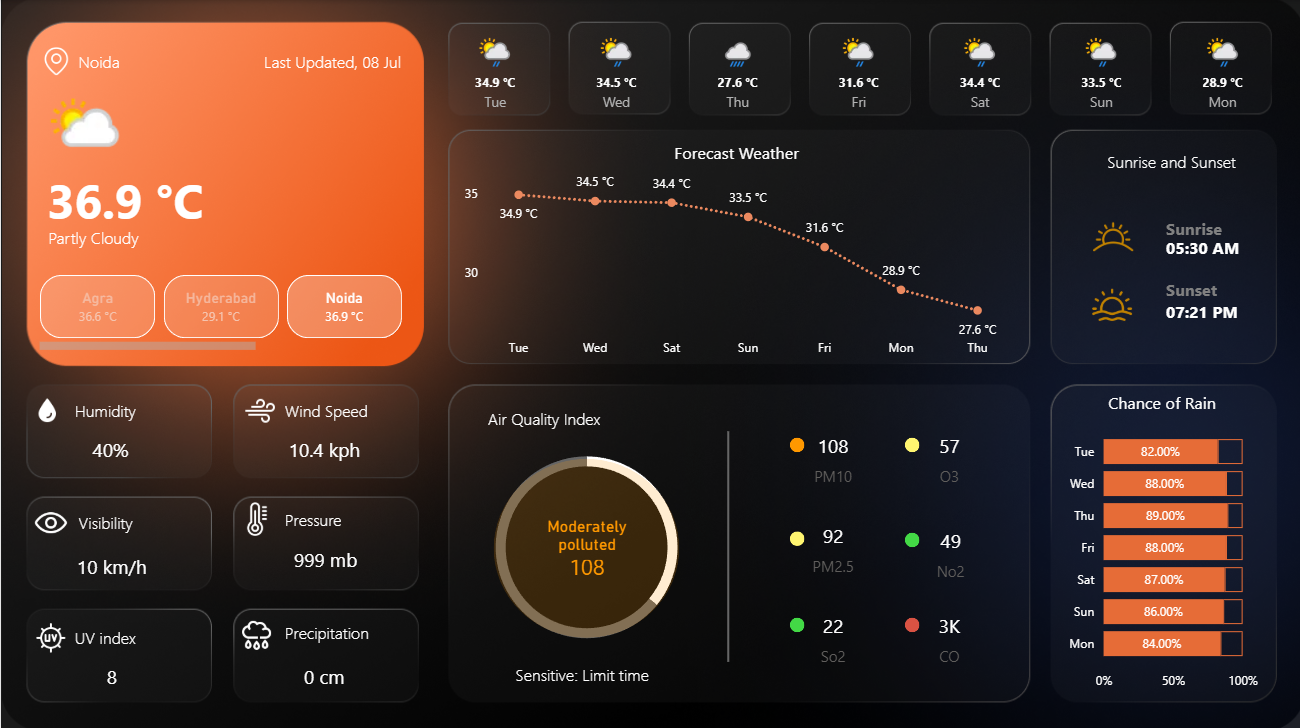

This screenshot's page, from the dashboard's own definition file:
{"tool":"powerbi","page":{"name":"Page 1","canvas":[1280,720],"ordinal":0},"visuals":[{"type":"donutChart","fields":{"Y":["Sum(Current.current.air_quality.pm10)","_Measures.Left_value_PM10"]},"box":[433,421,283.8,233.1],"z":0},{"type":"shape","box":[483.6,450.3,182.5,175.9],"z":1000},{"type":"advancedSlicerVisual","fields":{"Values":["Location.location.name"]},"box":[33.1,265,366.9,85.9],"z":2000},{"type":"shape","box":[45.3,158.5,173.2,74.6],"z":3000},{"type":"shape","box":[46.6,208.6,173,49.1],"z":4000},{"type":"shape","box":[76.1,29.4,166.9,61.4],"z":5000},{"type":"shape","box":[203.7,35.6,189,49.1],"z":6000},{"type":"image","box":[31.9,41.7,44.2,36.8],"z":7000},{"type":"cardVisual","fields":{"Data":["Min(Current.current.condition.icon)"]},"box":[22.6,69.3,110.6,110.6],"z":8000},{"type":"image","box":[230.5,382.3,48,41.3],"z":9000},{"type":"shape","box":[278.4,378.4,146.5,49.3],"z":10000},{"type":"shape","box":[71.9,378.4,146.5,49.3],"z":11000},{"type":"shape","box":[278.4,484.9,146.5,49.3],"z":12000},{"type":"shape","box":[75.9,488.9,146.5,49.3],"z":13000},{"type":"shape","box":[278.4,596.8,146.5,49.3],"z":14000},{"type":"shape","box":[71.9,600.8,143.9,49.3],"z":15000},{"type":"image","box":[28,381,34.6,42.6],"z":16000},{"type":"image","box":[25.3,488.9,46.6,49.3],"z":17000},{"type":"image","box":[25.3,606.2,46.6,40],"z":18000},{"type":"image","box":[225.1,600.8,53.3,45.3],"z":19000},{"type":"image","box":[226.5,488.9,49.3,42.6],"z":20000},{"type":"card","fields":{"Values":["_Measures.Humidity"]},"box":[54.6,423.6,105.2,40],"z":21000},{"type":"card","fields":{"Values":["_Measures.Wind_Speed"]},"box":[265.1,423.6,105.2,40],"z":22000},{"type":"card","fields":{"Values":["_Measures.Visibility"]},"box":[56,538.2,105.2,40],"z":23000},{"type":"card","fields":{"Values":["_Measures.Pressure"]},"box":[266.4,531.6,105.2,40],"z":24000},{"type":"card","fields":{"Values":["Sum(Current.current.uv)"]},"box":[56,646.1,105.2,40],"z":25000},{"type":"card","fields":{"Values":["_Measures.Precipitation"]},"box":[265.1,646.1,105.2,40],"z":26000},{"type":"lineChart","title":"Forecast Weather","fields":{"Category":["Forcast_day.Day_Name"],"Y":["Sum(Forcast_day.forecast.forecastday.day.avgtemp_c)"]},"box":[450.3,138.6,543.5,221.1],"z":27000},{"type":"advancedSlicerVisual","fields":{"Values":["Forcast_day.Day_Name"]},"box":[425,25.3,836.6,89.3],"z":28000},{"type":"shape","box":[1040.5,133.2,217.2,49.3],"z":29000},{"type":"shape","box":[1143.1,198.5,114.6,50.6],"z":30000},{"type":"shape","box":[1143.1,274.4,95.9,61.3],"z":31000},{"type":"shape","box":[1143.1,223.8,95.9,37.3],"z":32000},{"type":"shape","box":[1143.1,259.8,74.6,48],"z":33000},{"type":"image","box":[1040.5,201.2,102.6,62.6],"z":34000},{"type":"image","box":[1065.8,274.4,49.3,49.3],"z":35000},{"type":"hundredPercentStackedBarChart","title":"Chance of Rain","fields":{"Category":["Forcast_day.Day_Name"],"Y":["Sum(Forcast_day.forecast.forecastday.day.daily_chance_of_rain)","_Measures.LeftRain_Value"]},"box":[1040.5,383.7,198.5,302.4],"z":36000},{"type":"card","fields":{"Values":["Sum(Current.current.air_quality.o3)"]},"box":[877.9,409,105.2,82.6],"z":37000},{"type":"card","fields":{"Values":["Sum(Current.current.air_quality.no2)"]},"box":[879.3,502.2,105.2,82.6],"z":38000},{"type":"card","fields":{"Values":["Sum(Current.current.air_quality.co)"]},"box":[877.9,584.8,105.2,82.6],"z":39000},{"type":"card","fields":{"Values":["Sum(Current.current.air_quality.pm10)"]},"box":[764.7,409,105.2,82.6],"z":40000},{"type":"card","fields":{"Values":["Sum(Current.current.air_quality.pm2_5)"]},"box":[764.7,496.9,105.2,82.6],"z":41000},{"type":"card","fields":{"Values":["Sum(Current.current.air_quality.so2)"]},"box":[764.7,584.8,105.2,82.6],"z":42000},{"type":"shape","box":[774,429,14.7,14.7],"z":43000},{"type":"shape","box":[774,520.9,14.7,14.7],"z":44000},{"type":"shape","box":[774,606.2,14.7,14.7],"z":45000},{"type":"shape","box":[887.3,606.2,14.7,14.7],"z":46000},{"type":"shape","box":[887.3,522.2,14.7,14.7],"z":47000},{"type":"shape","box":[887.3,429,14.7,14.7],"z":48000},{"type":"shape","box":[639.5,423.6,149.2,226.5],"z":49000},{"type":"card","fields":{"Values":["Sum(Current.current.air_quality.pm10)"]},"box":[522.2,507.6,105.2,61.3],"z":50000},{"type":"shape","box":[450.3,393.9,165.6,33.1],"z":51000},{"type":"shape","box":[450.3,645.4,240.5,33.1],"z":52000}]}

Visuals, with their boxes in screenshot pixels (x1, y1, x2, y2), scaled from the page's 1280x720 canvas onto the 1300x728 screenshot:
donutChart - Sum(Current.current.air_quality.pm10) x _Measures.Left_value_PM10: x1=440 y1=426 x2=728 y2=661
shape: x1=491 y1=455 x2=677 y2=633
advancedSlicerVisual - Location.location.name: x1=34 y1=268 x2=406 y2=355
shape: x1=46 y1=160 x2=222 y2=236
shape: x1=47 y1=211 x2=223 y2=261
shape: x1=77 y1=30 x2=247 y2=92
shape: x1=207 y1=36 x2=399 y2=86
image: x1=32 y1=42 x2=77 y2=79
cardVisual - Min(Current.current.condition.icon): x1=23 y1=70 x2=135 y2=182
image: x1=234 y1=387 x2=283 y2=428
shape: x1=283 y1=383 x2=432 y2=432
shape: x1=73 y1=383 x2=222 y2=432
shape: x1=283 y1=490 x2=432 y2=540
shape: x1=77 y1=494 x2=226 y2=544
shape: x1=283 y1=603 x2=432 y2=653
shape: x1=73 y1=607 x2=219 y2=657
image: x1=28 y1=385 x2=64 y2=428
image: x1=26 y1=494 x2=73 y2=544
image: x1=26 y1=613 x2=73 y2=653
image: x1=229 y1=607 x2=283 y2=653
image: x1=230 y1=494 x2=280 y2=537
card - _Measures.Humidity: x1=55 y1=428 x2=162 y2=469
card - _Measures.Wind_Speed: x1=269 y1=428 x2=376 y2=469
card - _Measures.Visibility: x1=57 y1=544 x2=164 y2=585
card - _Measures.Pressure: x1=271 y1=538 x2=377 y2=578
card - Sum(Current.current.uv): x1=57 y1=653 x2=164 y2=694
card - _Measures.Precipitation: x1=269 y1=653 x2=376 y2=694
"Forecast Weather" lineChart: x1=457 y1=140 x2=1009 y2=364
advancedSlicerVisual - Forcast_day.Day_Name: x1=432 y1=26 x2=1281 y2=116
shape: x1=1057 y1=135 x2=1277 y2=185
shape: x1=1161 y1=201 x2=1277 y2=252
shape: x1=1161 y1=277 x2=1258 y2=339
shape: x1=1161 y1=226 x2=1258 y2=264
shape: x1=1161 y1=263 x2=1237 y2=311
image: x1=1057 y1=203 x2=1161 y2=267
image: x1=1082 y1=277 x2=1133 y2=327
"Chance of Rain" hundredPercentStackedBarChart: x1=1057 y1=388 x2=1258 y2=694
card - Sum(Current.current.air_quality.o3): x1=892 y1=414 x2=998 y2=497
card - Sum(Current.current.air_quality.no2): x1=893 y1=508 x2=1000 y2=591
card - Sum(Current.current.air_quality.co): x1=892 y1=591 x2=998 y2=675
card - Sum(Current.current.air_quality.pm10): x1=777 y1=414 x2=883 y2=497
card - Sum(Current.current.air_quality.pm2_5): x1=777 y1=502 x2=883 y2=586
card - Sum(Current.current.air_quality.so2): x1=777 y1=591 x2=883 y2=675
shape: x1=786 y1=434 x2=801 y2=449
shape: x1=786 y1=527 x2=801 y2=542
shape: x1=786 y1=613 x2=801 y2=628
shape: x1=901 y1=613 x2=916 y2=628
shape: x1=901 y1=528 x2=916 y2=543
shape: x1=901 y1=434 x2=916 y2=449
shape: x1=649 y1=428 x2=801 y2=657
card - Sum(Current.current.air_quality.pm10): x1=530 y1=513 x2=637 y2=575
shape: x1=457 y1=398 x2=626 y2=432
shape: x1=457 y1=653 x2=702 y2=686
